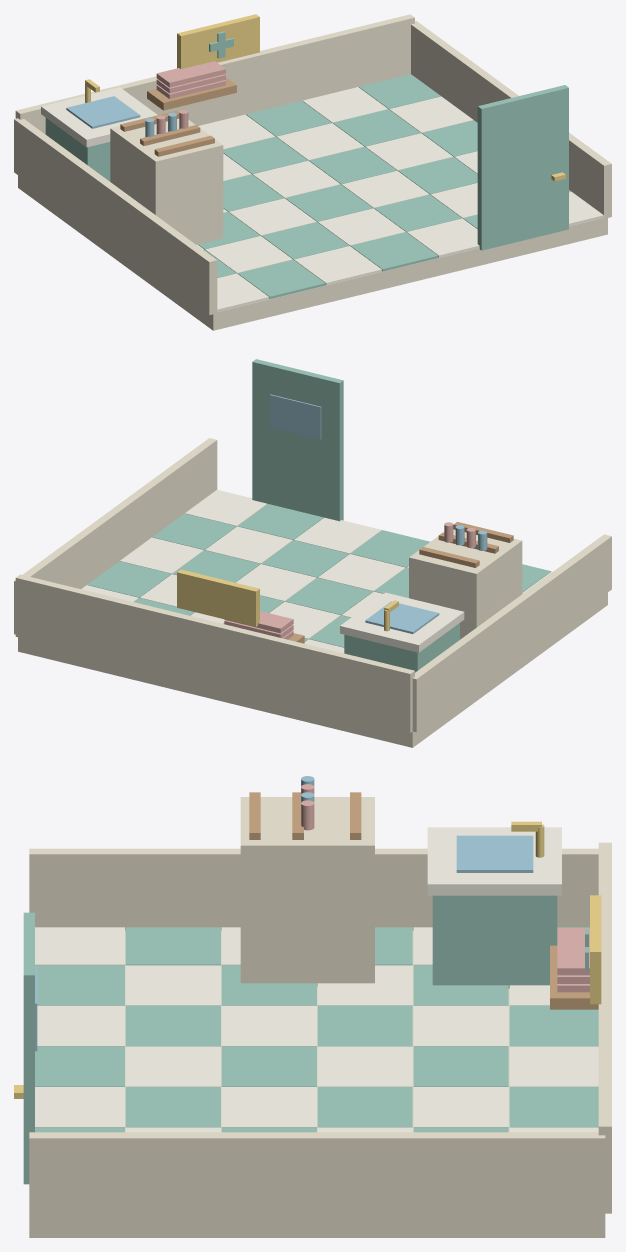
File: examination-room.glb
The picture shows the model from 3 angles, top to bottom: view 1: azimuth 30°, elevation 25°; view 2: azimuth 150°, elevation 25°; view 3: azimuth 270°, elevation 25°; orthographic projection. The views are drawn at different scales.
Visible parts, largest first — view 1: back wall, exam door, cutaway side wall, room foundation, supply cabinet, cutaway side wall.001, room sign, sink top, room tile.023, room tile.011, room tile.017, room tile.020 (+34 smaller); view 2: back wall, cutaway side wall, exam door, cutaway side wall.001, room foundation, supply cabinet, room sign, sink top, sink cabinet, room tile.028, room tile.021, room tile.022 (+18 smaller); view 3: cutaway side wall.001, cutaway side wall, supply cabinet, room foundation, sink cabinet, sink top, back wall, room tile.013, room tile.014, room tile.015, room tile.016, room tile.010 (+29 smaller).
Part boxes in pixels (box(x1,y1,x2,y2)): back wall: box(15, 14, 414, 134); exam door: box(477, 85, 568, 250); cutaway side wall: box(14, 118, 217, 314); room foundation: box(18, 175, 607, 330); supply cabinet: box(110, 118, 223, 244); cutaway side wall.001: box(411, 21, 611, 217); room sign: box(177, 14, 259, 69); sink top: box(41, 87, 157, 147); room tile.023: box(350, 232, 438, 271); room tile.011: box(237, 259, 325, 298); room tile.017: box(294, 246, 381, 285); room tile.020: box(252, 160, 340, 198); back wall: box(15, 574, 414, 732); cutaway side wall: box(412, 534, 611, 732); exam door: box(252, 359, 343, 521); cutaway side wall.001: box(14, 438, 217, 634); room foundation: box(18, 592, 607, 747); supply cabinet: box(409, 529, 522, 639); room sign: box(177, 569, 259, 626); sink top: box(340, 592, 464, 652); sink cabinet: box(344, 623, 459, 672); room tile.028: box(261, 540, 349, 577); room tile.021: box(285, 577, 373, 615); room tile.022: box(318, 554, 405, 591); cutaway side wall.001: box(29, 1132, 605, 1216); cutaway side wall: box(29, 848, 598, 930); supply cabinet: box(240, 797, 374, 986); room foundation: box(29, 930, 605, 1237); sink cabinet: box(432, 895, 557, 988); sink top: box(427, 827, 561, 895); back wall: box(598, 842, 611, 1213); room tile.013: box(413, 1005, 508, 1046); room tile.014: box(317, 1005, 412, 1046); room tile.015: box(221, 1005, 316, 1046); room tile.016: box(125, 1005, 220, 1046); room tile.010: box(125, 965, 220, 1005).
Bounding box in the file's own units: 7.14 × 2.68 × 6.23.
